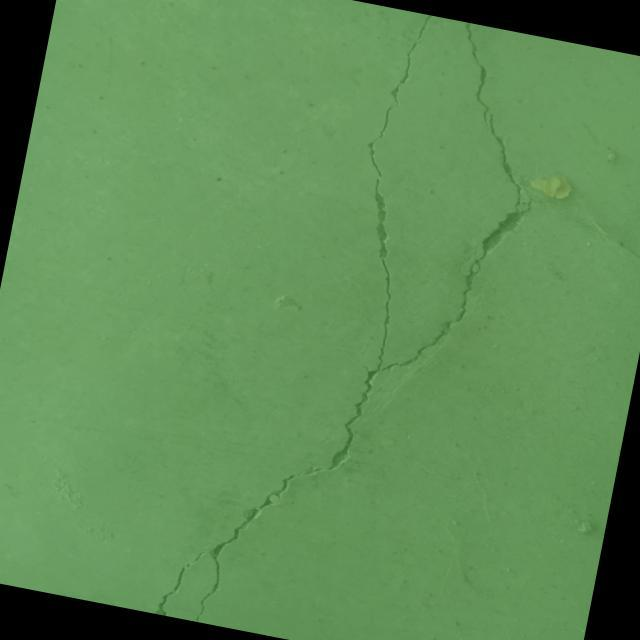crack: (154, 0, 563, 640)
